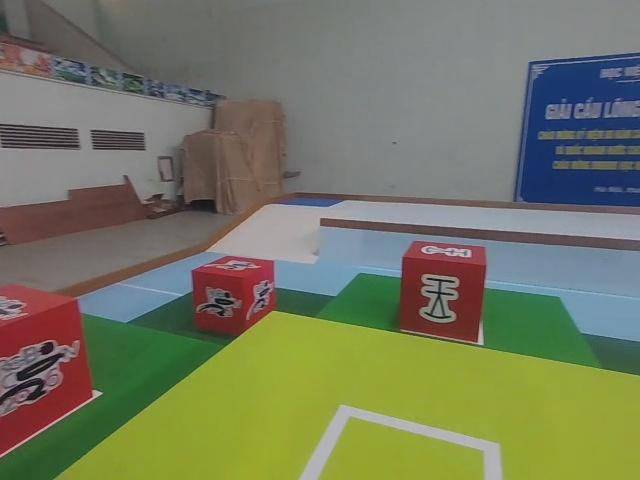R1: (0, 277, 99, 466), (188, 250, 278, 338)
R2 Real: (394, 239, 490, 345)
